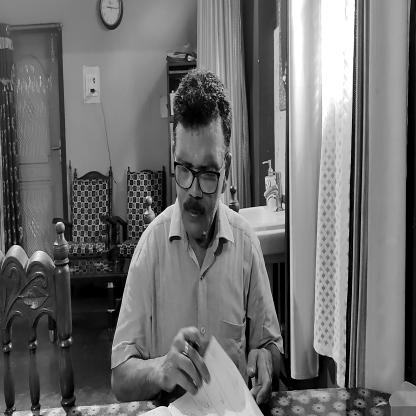Normal: (167, 68, 228, 238)
